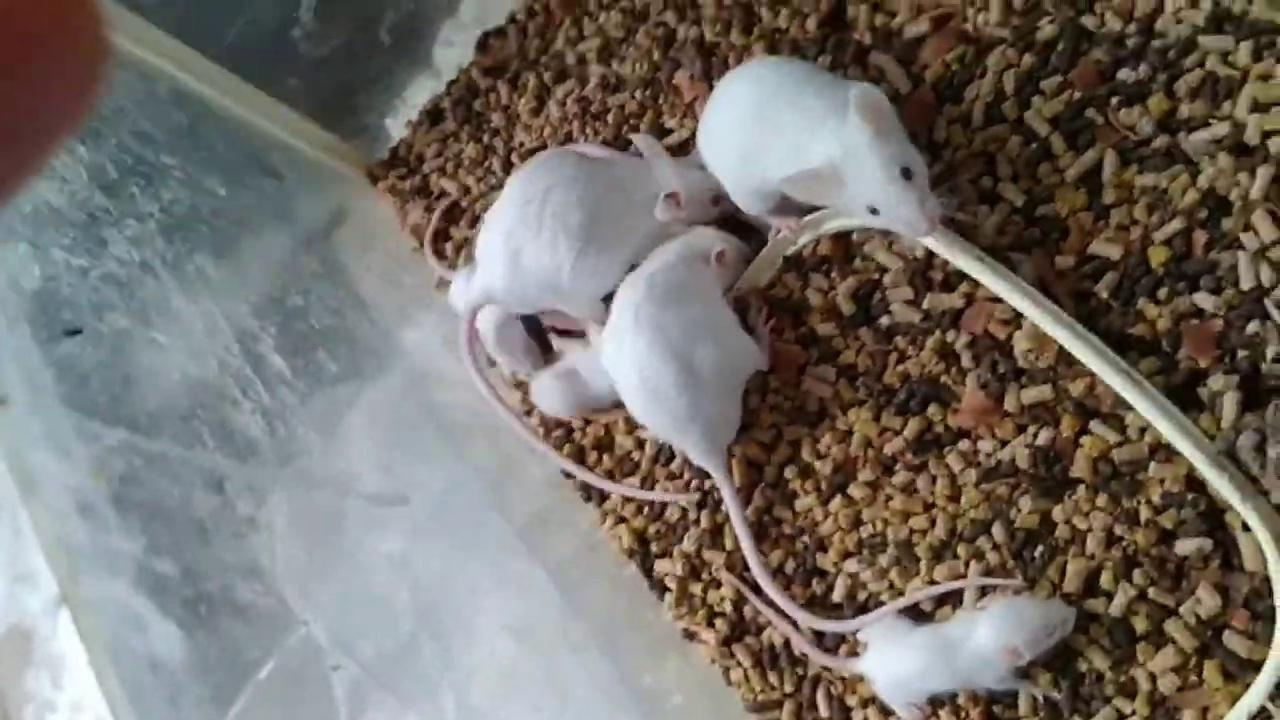rat: (604, 225, 1028, 633), (460, 133, 738, 500), (721, 564, 1078, 720), (698, 53, 946, 245)
